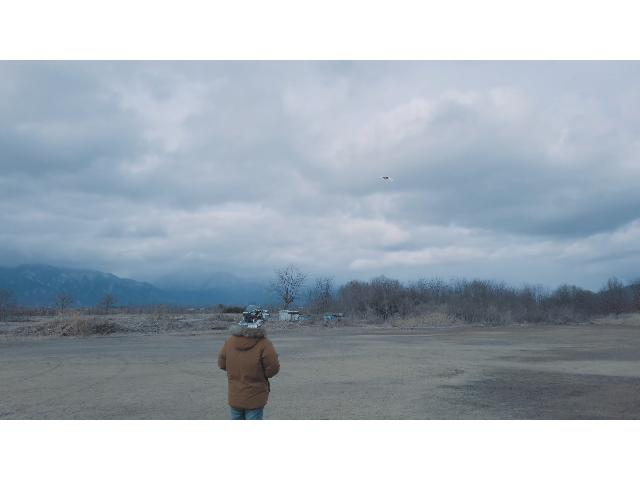Anti-Drone: (374, 169, 400, 187)
